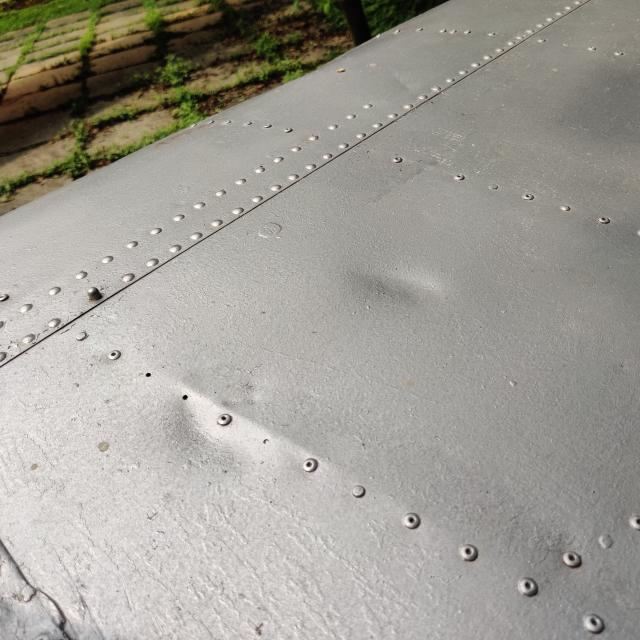dent: (322, 207, 472, 348), (141, 356, 290, 497)
